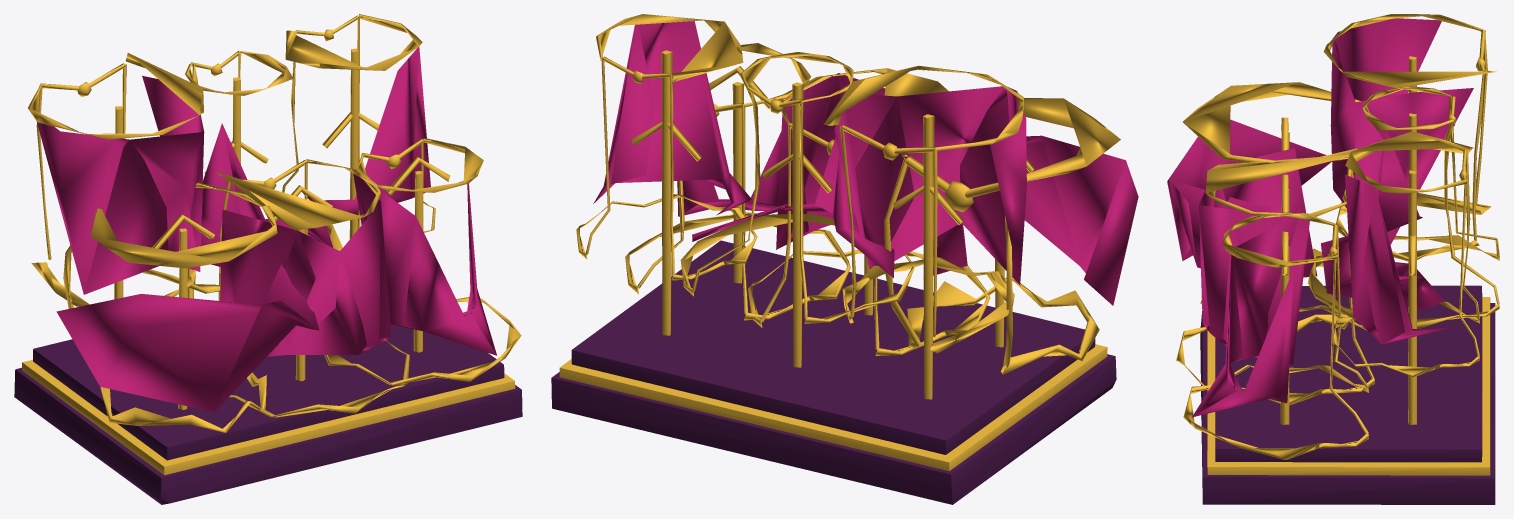
The model's file is chess.set.velvet-court.lod1.glb.
The picture shows the model from 3 angles, left to right: view 1: azimuth 30°, elevation 25°; view 2: azimuth 150°, elevation 25°; view 3: azimuth 270°, elevation 25°; orthographic projection. The views are drawn at different scales.
Visible parts, largest first — view 1: clasp.003; view 2: clasp.003; view 3: clasp.003.
Boxes of the visible parts, left/top/right/bottom form: clasp.003: left=14, top=14, right=522, bottom=504; clasp.003: left=551, top=14, right=1138, bottom=504; clasp.003: left=1167, top=14, right=1499, bottom=504.
Size of the model in its own units: 0.6664 by 0.4744 by 0.454.
